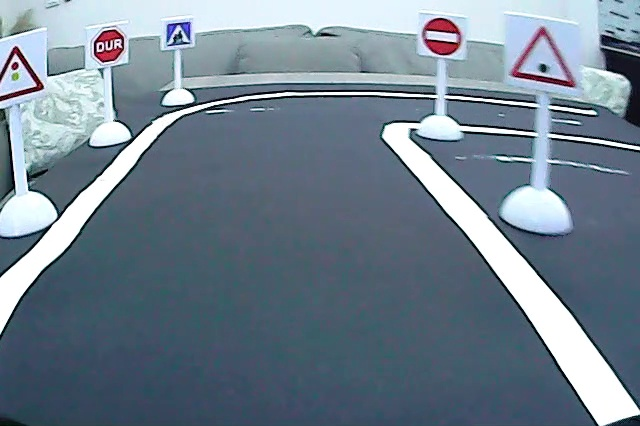do not enter: (422, 16, 463, 57)
green light: (507, 22, 581, 93)
red light: (1, 42, 46, 103)
school crossing: (162, 20, 195, 49)
stop sign: (91, 26, 127, 65)
